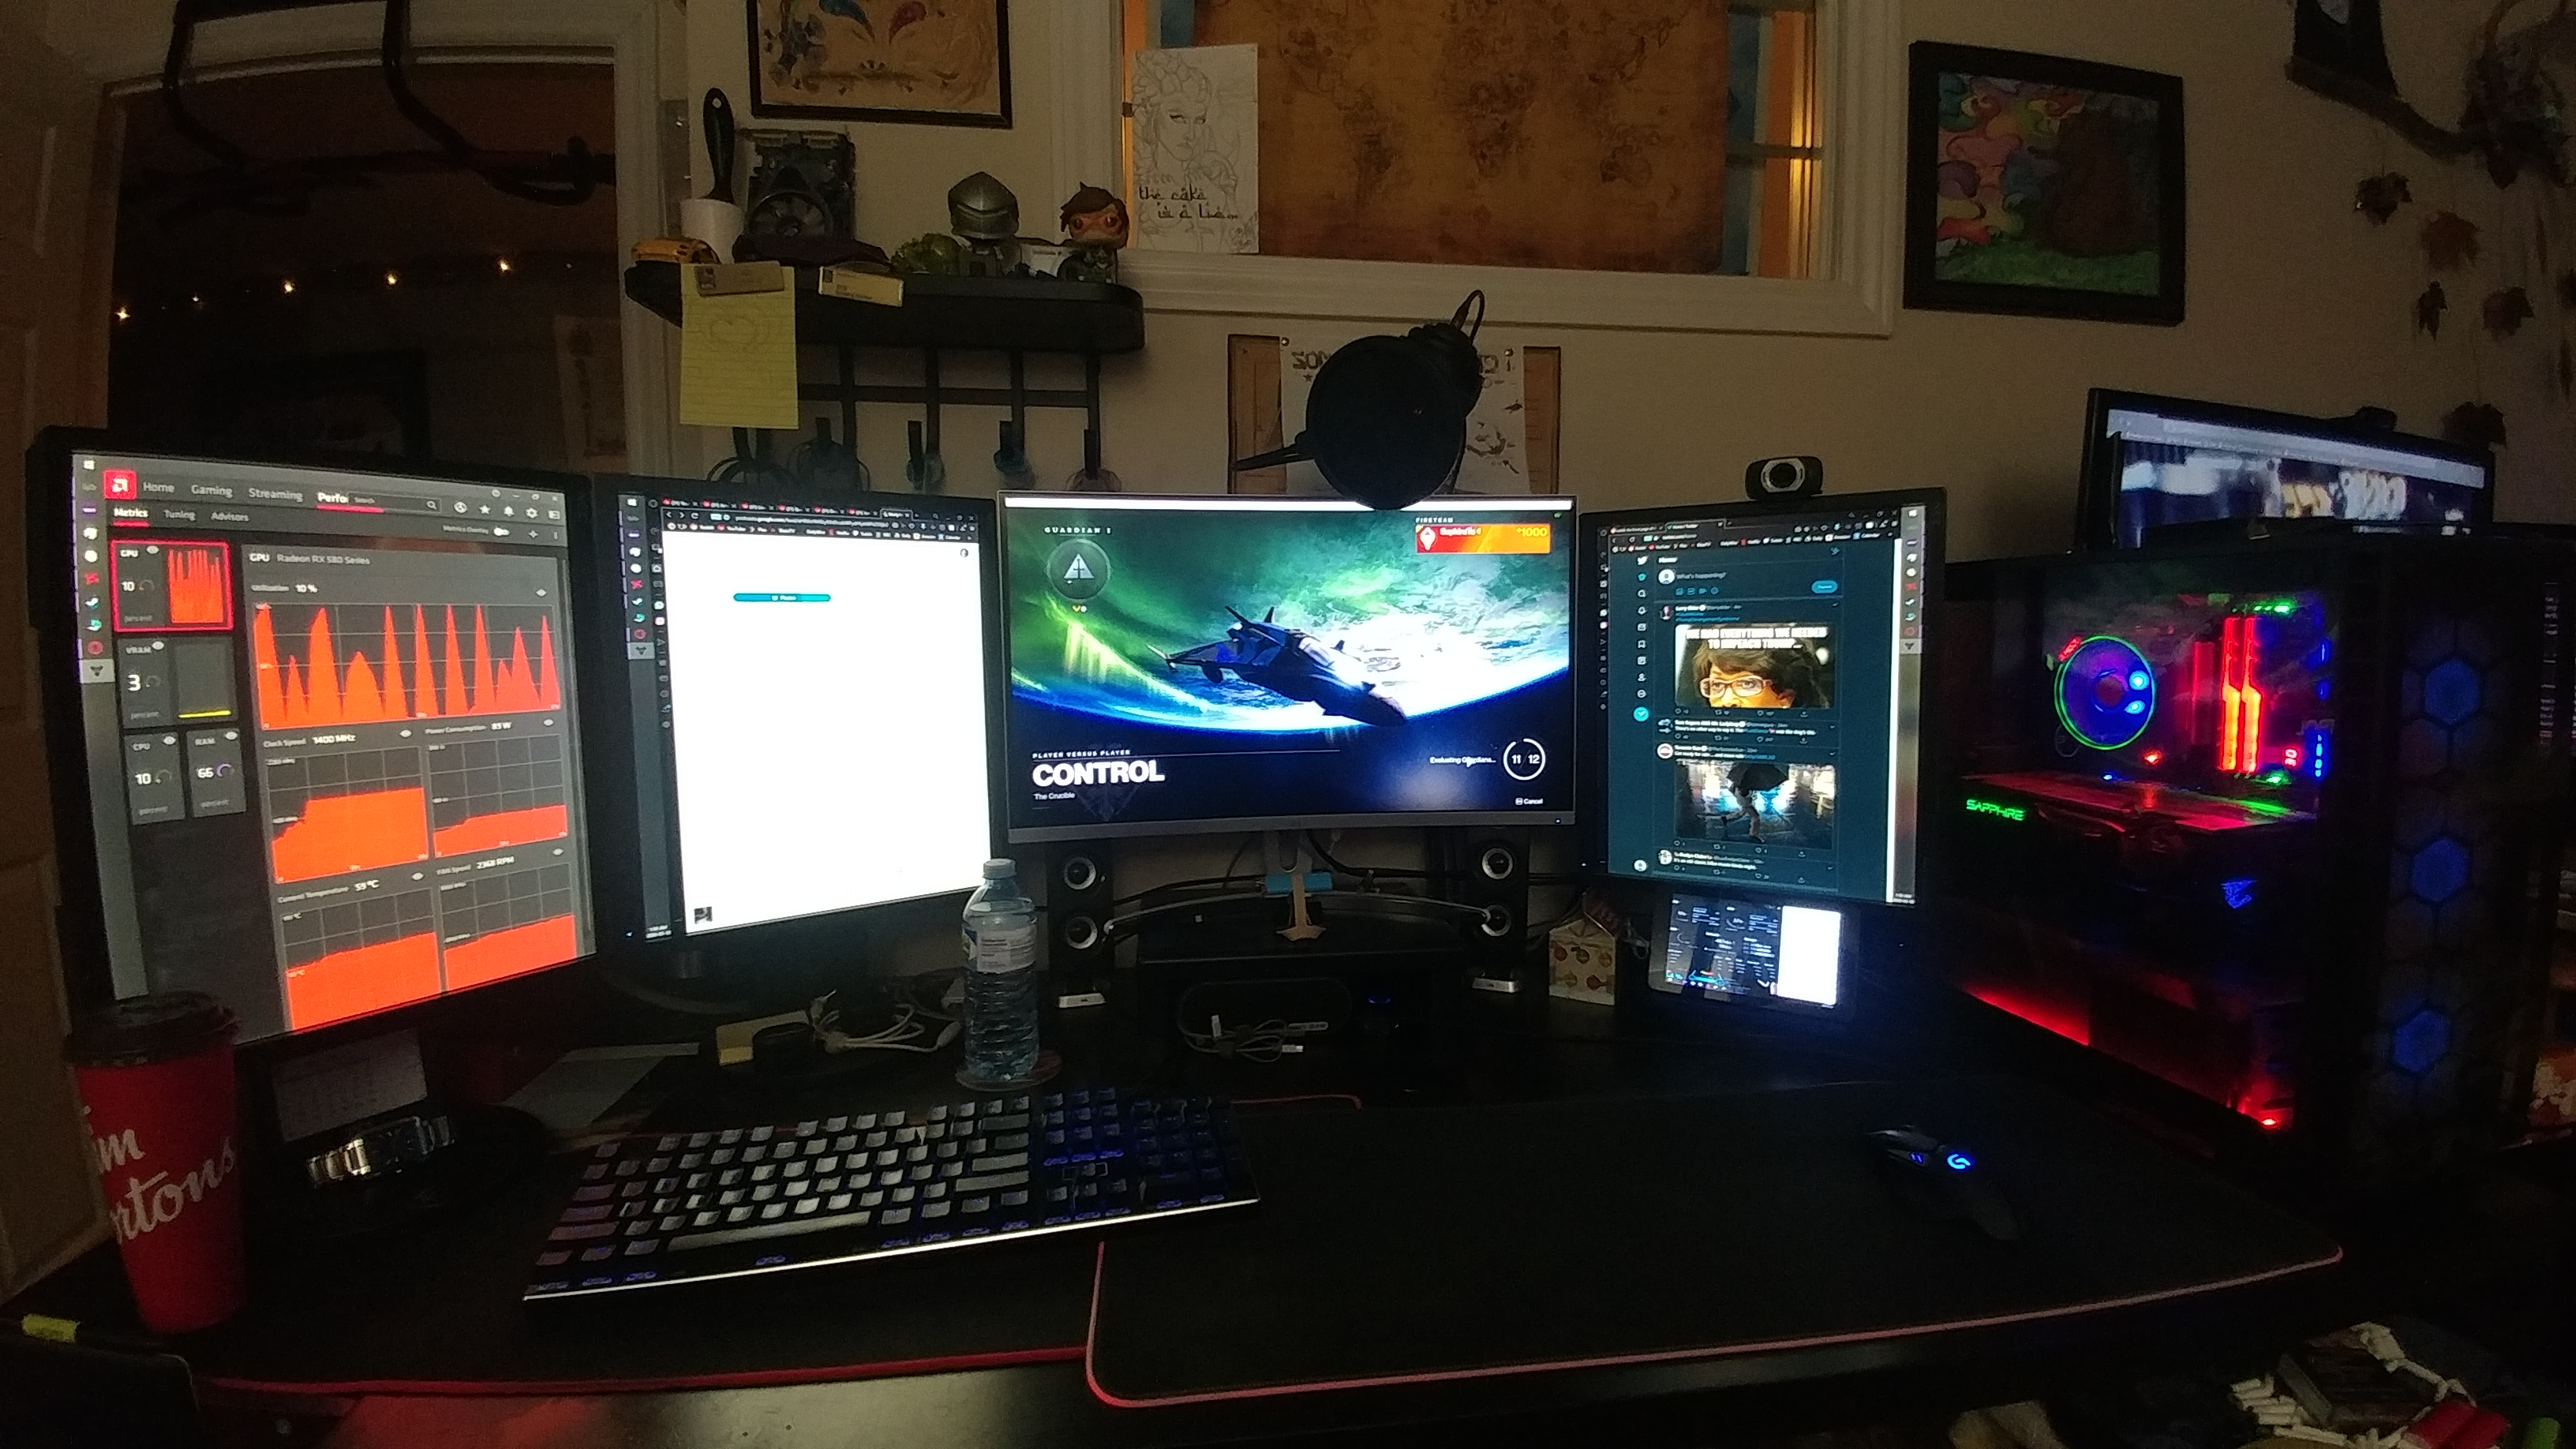Decoration (Miniature): (1051, 177, 1146, 297), (936, 163, 1030, 285)
Decoration (Picture): (1042, 0, 1913, 338), (1900, 34, 2196, 331)
Decoration (Watch): (283, 1083, 495, 1215)
Desk (Generic): (4, 856, 2576, 1442)
Desktop (Windows): (1925, 534, 2576, 1224)
Drink Coaster: (948, 1040, 1060, 1095)
External Microphone (with Boom Arm): (1274, 297, 1522, 541)
External Speakers (Subwoofers): (1039, 826, 1122, 1016), (1463, 814, 1545, 1003)
External Webcam: (1732, 439, 1835, 520)
Keyboard (Generic): (513, 1074, 1258, 1318)
Monitor (Landscape): (7, 423, 607, 1024), (996, 479, 1589, 872), (591, 449, 1010, 941), (1575, 490, 1944, 913)
Mouse (Gaming): (1861, 1115, 2031, 1251)
Mousepad (Gaming): (1095, 1074, 2335, 1405)
Tablet (Generic): (1645, 874, 1881, 1042)
Water Bottle: (952, 846, 1047, 1076)
